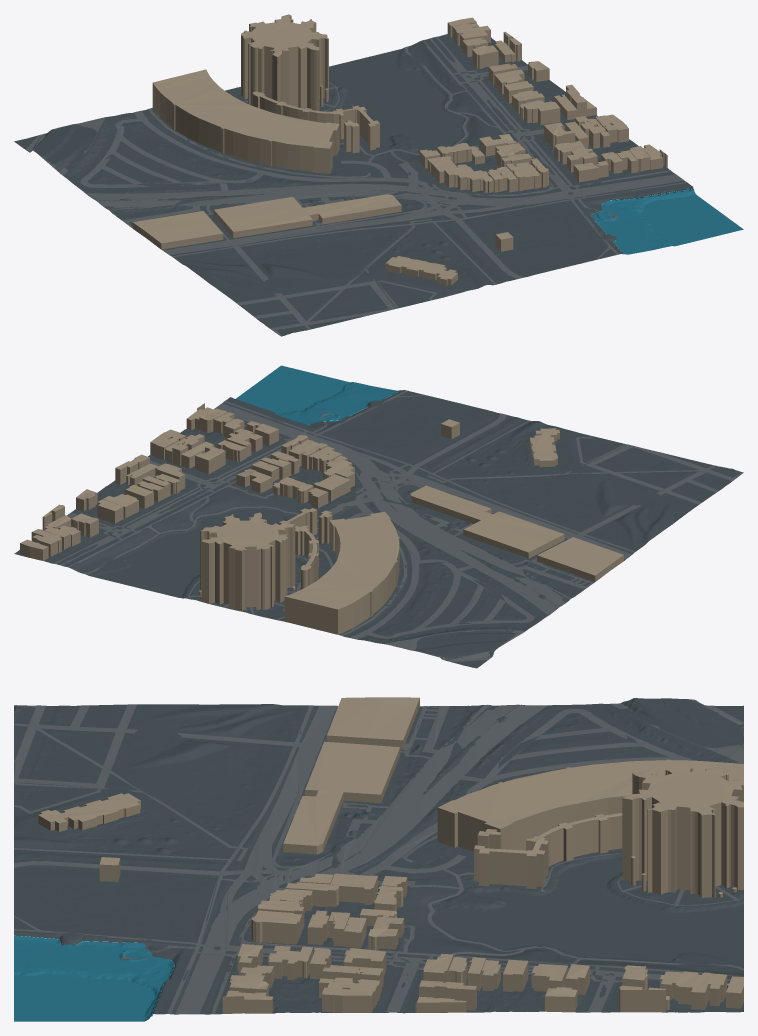
The model's file is epsg26910-1428-10896.lod0.glb.
The picture shows the model from 3 angles, top to bottom: view 1: azimuth 30°, elevation 25°; view 2: azimuth 150°, elevation 25°; view 3: azimuth 270°, elevation 25°; orthographic projection. The views are drawn at different scales.
Parts seen in each view (by area): view 1: epsg26910-1428-10896-lod0; view 2: epsg26910-1428-10896-lod0; view 3: epsg26910-1428-10896-lod0.
Part boxes in pixels (x1,y1,x2,y2): epsg26910-1428-10896-lod0: [14, 14, 743, 336]; epsg26910-1428-10896-lod0: [14, 365, 743, 668]; epsg26910-1428-10896-lod0: [14, 697, 743, 1021].
Bounding box in the file's own units: 384 × 52.22 × 384.
